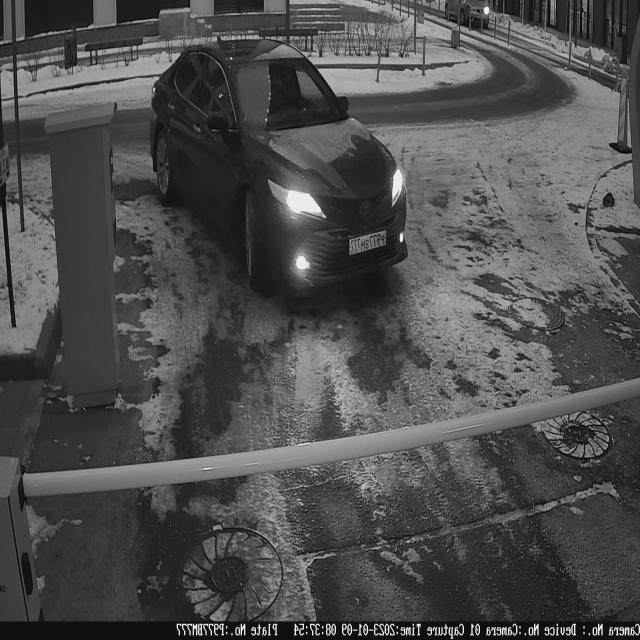car-plate-numbers: (348, 225, 391, 260)
